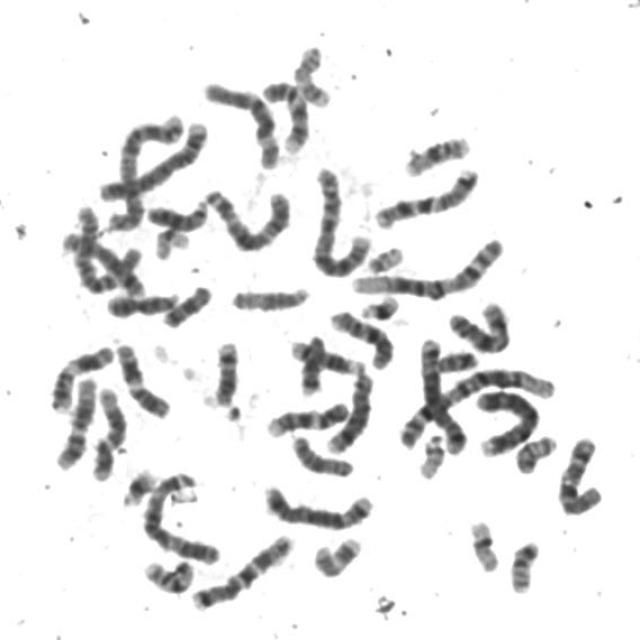A1: (395, 359, 560, 452), (348, 230, 508, 300)
A2: (106, 100, 184, 234), (307, 158, 376, 279)
A3: (136, 464, 225, 566), (199, 180, 296, 253)
B4: (92, 112, 210, 205), (469, 382, 543, 458)
B5: (414, 330, 469, 458), (258, 478, 378, 532)
C10: (325, 302, 398, 371), (548, 435, 611, 514)
C11: (45, 338, 119, 413), (110, 335, 174, 420)
C12: (51, 370, 100, 472), (86, 380, 130, 482)
C6: (198, 73, 285, 170), (70, 203, 139, 296)
C7: (186, 527, 297, 612), (369, 159, 484, 230)
C8: (52, 226, 143, 302), (320, 365, 378, 455)
C9: (256, 73, 314, 156), (262, 394, 354, 438)
D13: (102, 290, 187, 322), (142, 193, 211, 232)
D14: (284, 332, 366, 376), (204, 334, 244, 409)
D15: (287, 427, 359, 479), (226, 278, 314, 314)
E16: (398, 128, 475, 178), (137, 552, 198, 595)
E17: (288, 37, 335, 109), (308, 530, 366, 580)
E18: (156, 277, 216, 329), (294, 327, 330, 397)
F19: (463, 512, 504, 574), (150, 221, 193, 262)
F20: (505, 532, 544, 596), (511, 427, 561, 475)
G21: (116, 461, 161, 509), (355, 287, 404, 322)
G22: (413, 427, 449, 481), (360, 238, 407, 274)
X: (443, 294, 515, 355)
